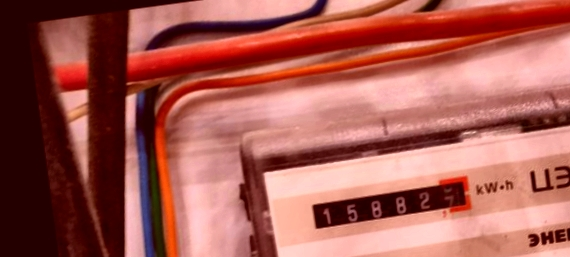1: (316, 203, 331, 223)
2: (414, 187, 429, 208)
5: (341, 199, 356, 221)
7: (440, 191, 453, 207)
8: (366, 195, 381, 217), (391, 192, 405, 214)
screen: (299, 167, 479, 236)
